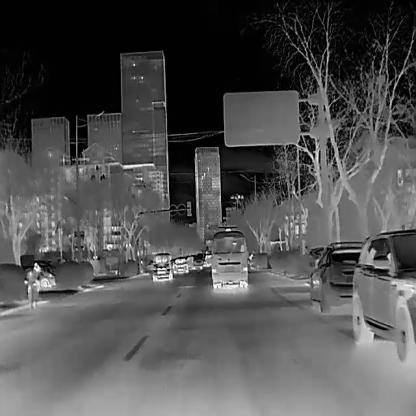car: (351, 229, 415, 362), (309, 239, 361, 313), (211, 227, 247, 288), (22, 265, 37, 307), (151, 251, 172, 280), (38, 266, 56, 289), (172, 254, 188, 272), (187, 255, 203, 271)
